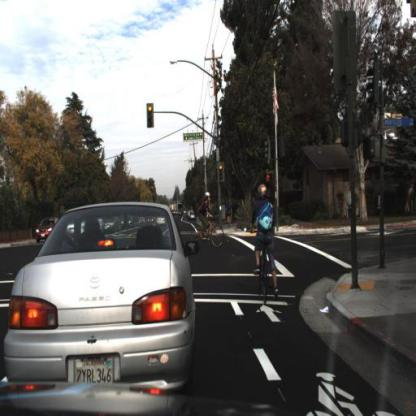biker: (239, 168, 283, 317), (187, 193, 227, 257), (190, 181, 222, 248)
car: (1, 193, 197, 400), (34, 215, 57, 246)
pedestrian: (224, 193, 238, 235)
trafficLight-Red: (146, 104, 159, 139), (216, 157, 226, 183), (148, 101, 156, 130)
